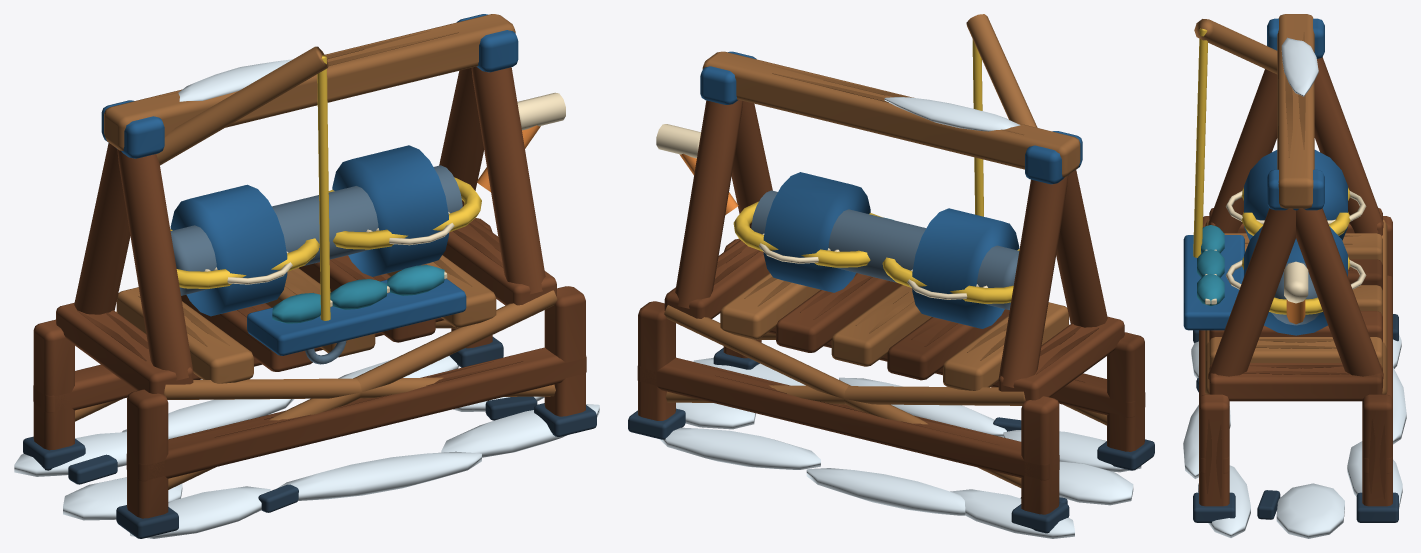
File: fishing_rack.glb
3 renders of one model, left to right at view 1: azimuth 30°, elevation 25°; view 2: azimuth 150°, elevation 25°; view 3: azimuth 270°, elevation 25°, orthographic. The views are drawn at different scales.
Visible parts, largest first — view 1: fishing_rack; view 2: fishing_rack; view 3: fishing_rack.
Part boxes in pixels (box(x1,y1,x2,y2)): fishing_rack: box(14, 14, 599, 538); fishing_rack: box(628, 14, 1154, 538); fishing_rack: box(1183, 14, 1406, 538).
Bounding box in the file's own units: 3.02 × 2.59 × 1.31.
